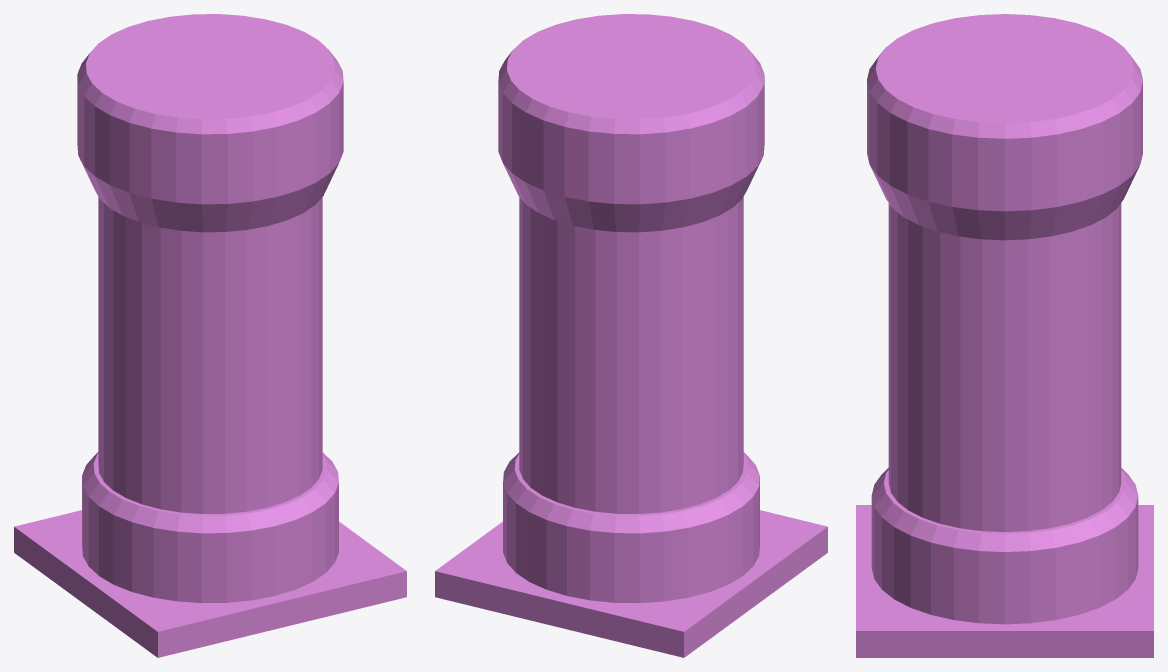
The model's file is Arena_001_Details_SpecimenTank.fbx.
3 views of the same model, side by side, from view 1: azimuth 30°, elevation 25°; view 2: azimuth 150°, elevation 25°; view 3: azimuth 270°, elevation 25° (orthographic). The views are drawn at different scales.
Parts seen in each view (by area): view 1: Arena_001_Detail_SpecimenTank; view 2: Arena_001_Detail_SpecimenTank; view 3: Arena_001_Detail_SpecimenTank.
Part boxes in pixels (box(x1,y1,x2,y2)): Arena_001_Detail_SpecimenTank: box(14, 14, 406, 657); Arena_001_Detail_SpecimenTank: box(435, 14, 827, 657); Arena_001_Detail_SpecimenTank: box(856, 14, 1153, 657).
Bounding box in the file's own units: 200 × 390 × 200.
